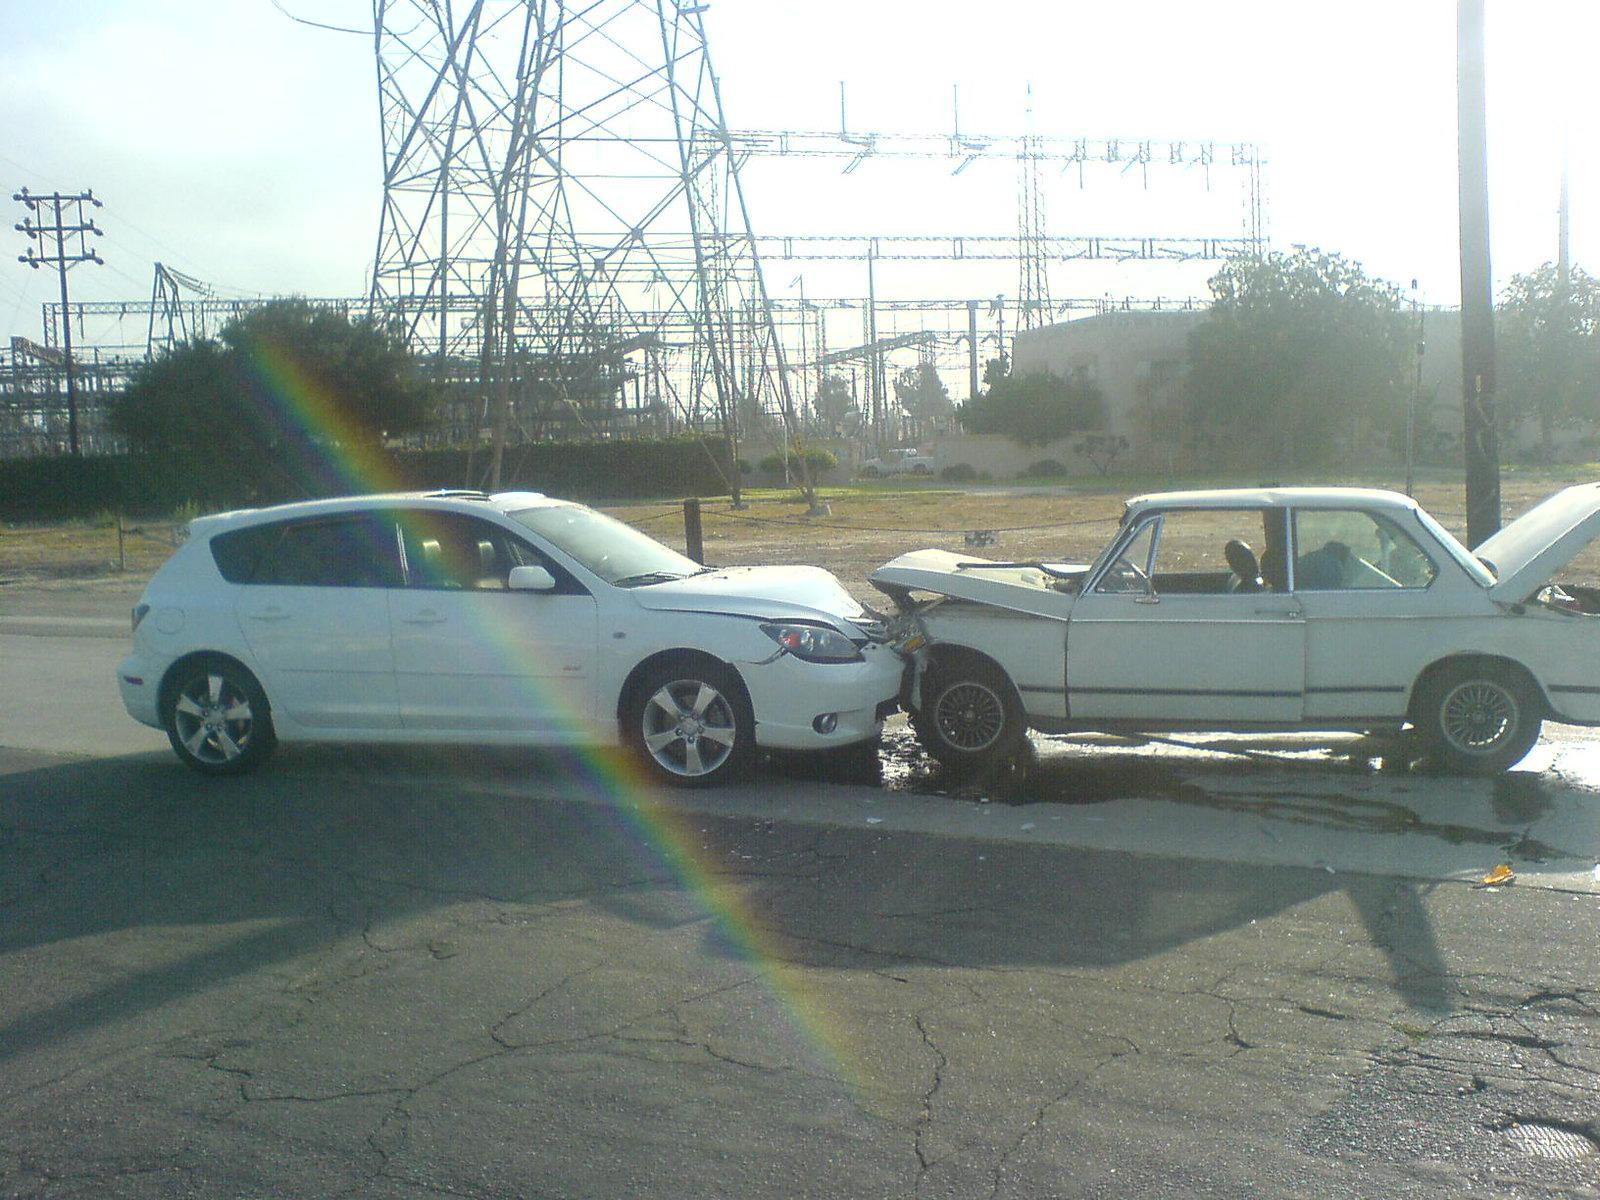bonnet-dent: (901, 529, 1080, 616), (721, 560, 879, 639)
